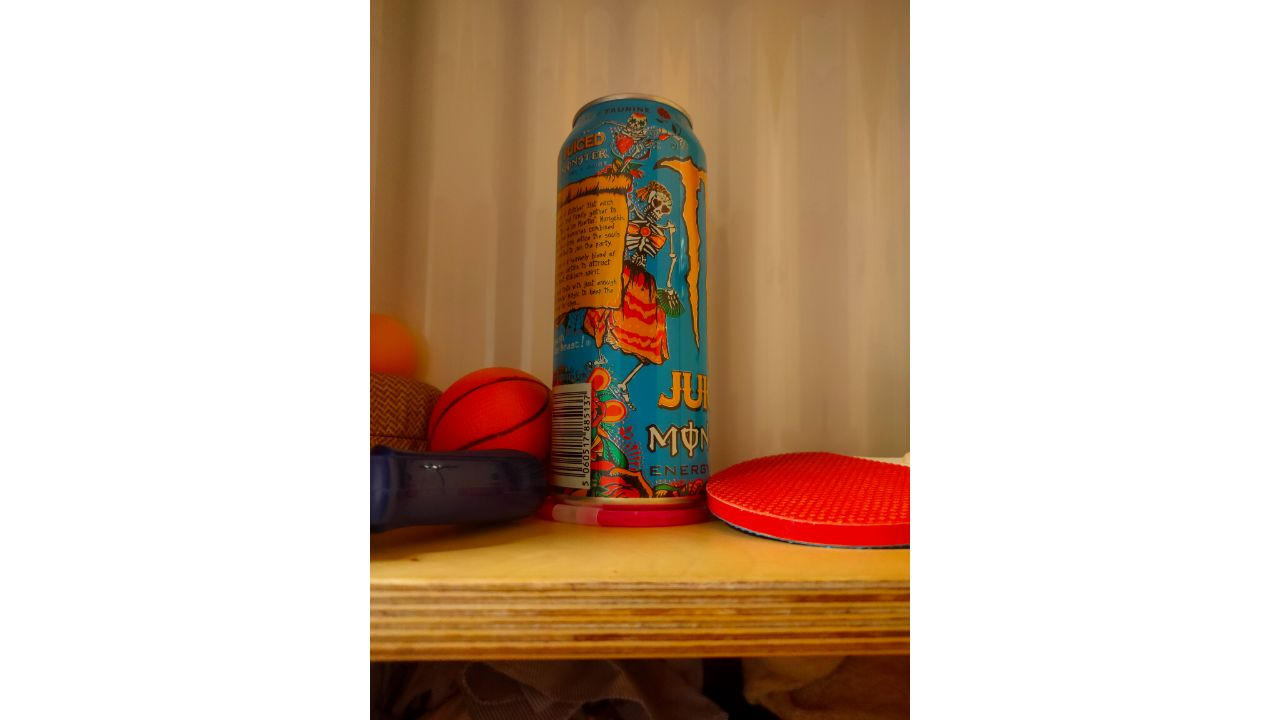Can: (548, 98, 714, 515)
